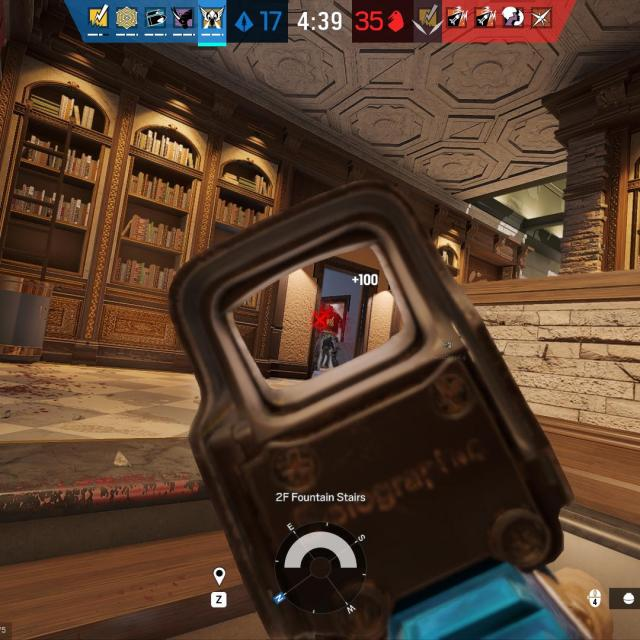Character: (314, 304, 344, 370)
